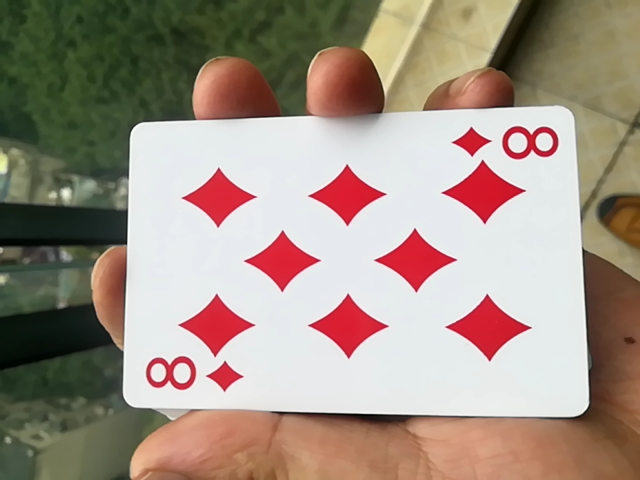fk 8: (106, 120, 580, 440)
